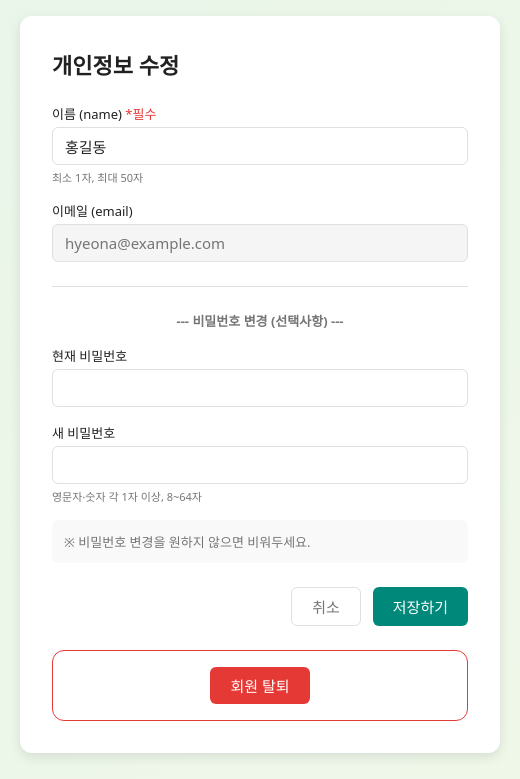
Test: ProfilePage › 이름이 빈 값일 때 저장 시 에러를 표시한다
Clear the field labelled "이름 (name) *필수" at (260, 146), box [52,127,468,165]
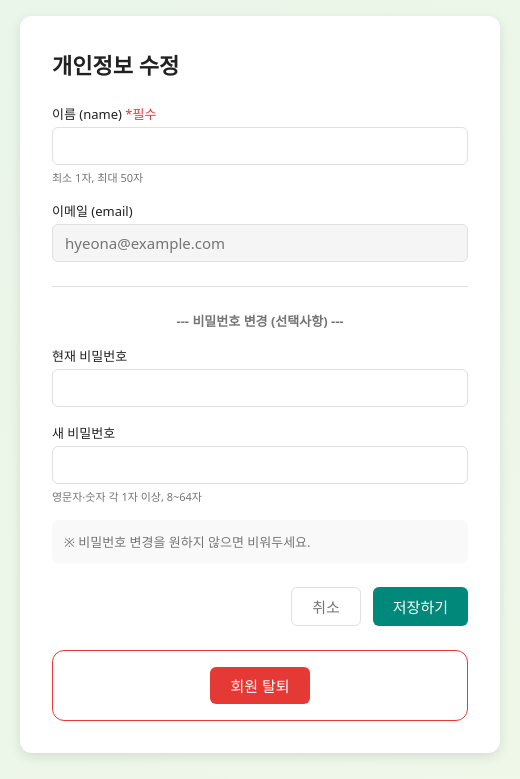
Click the button "저장하기" at (420, 606), box [373,587,468,626]
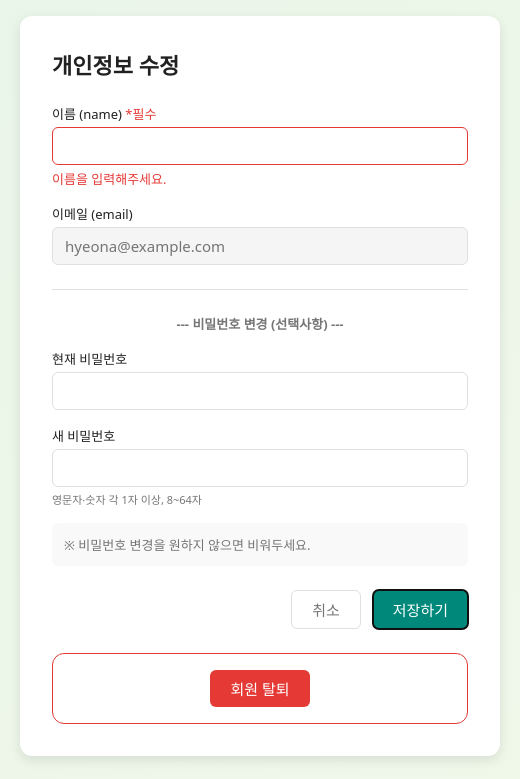
Expected: the text "이름을 입력해주세요." is shown, [52,170,166,188]
